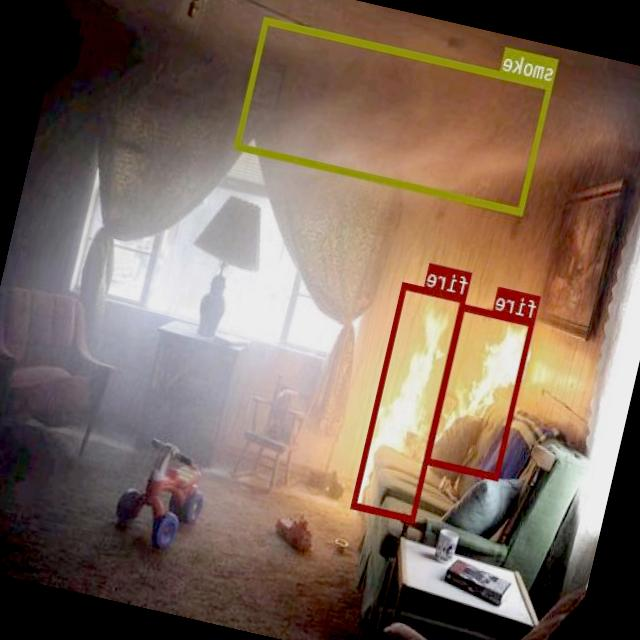fire: (351, 280, 467, 521), (425, 302, 536, 480)
smoke: (234, 16, 554, 214)
